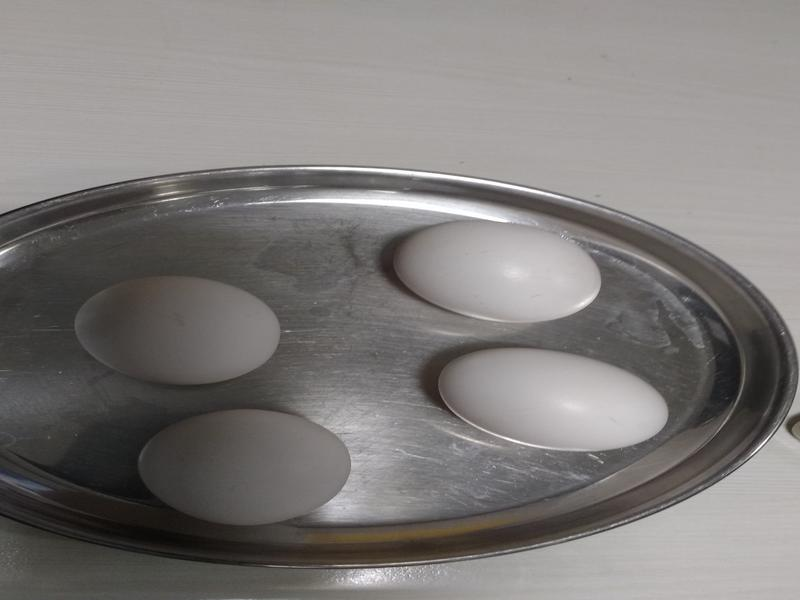egg: (77, 275, 279, 377)
